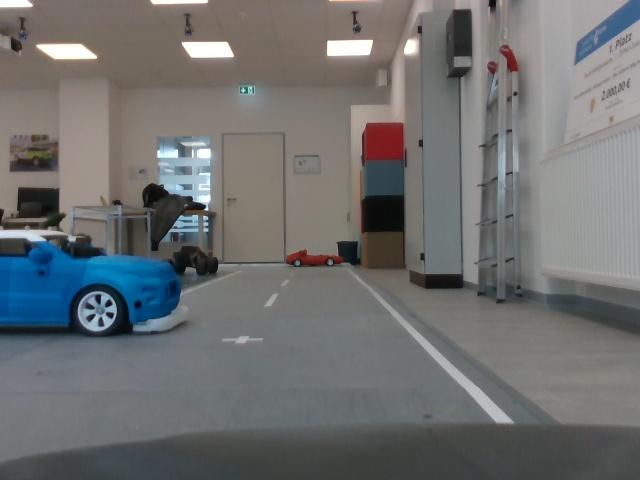car: (2, 221, 195, 339), (169, 246, 225, 282), (288, 248, 347, 274)
